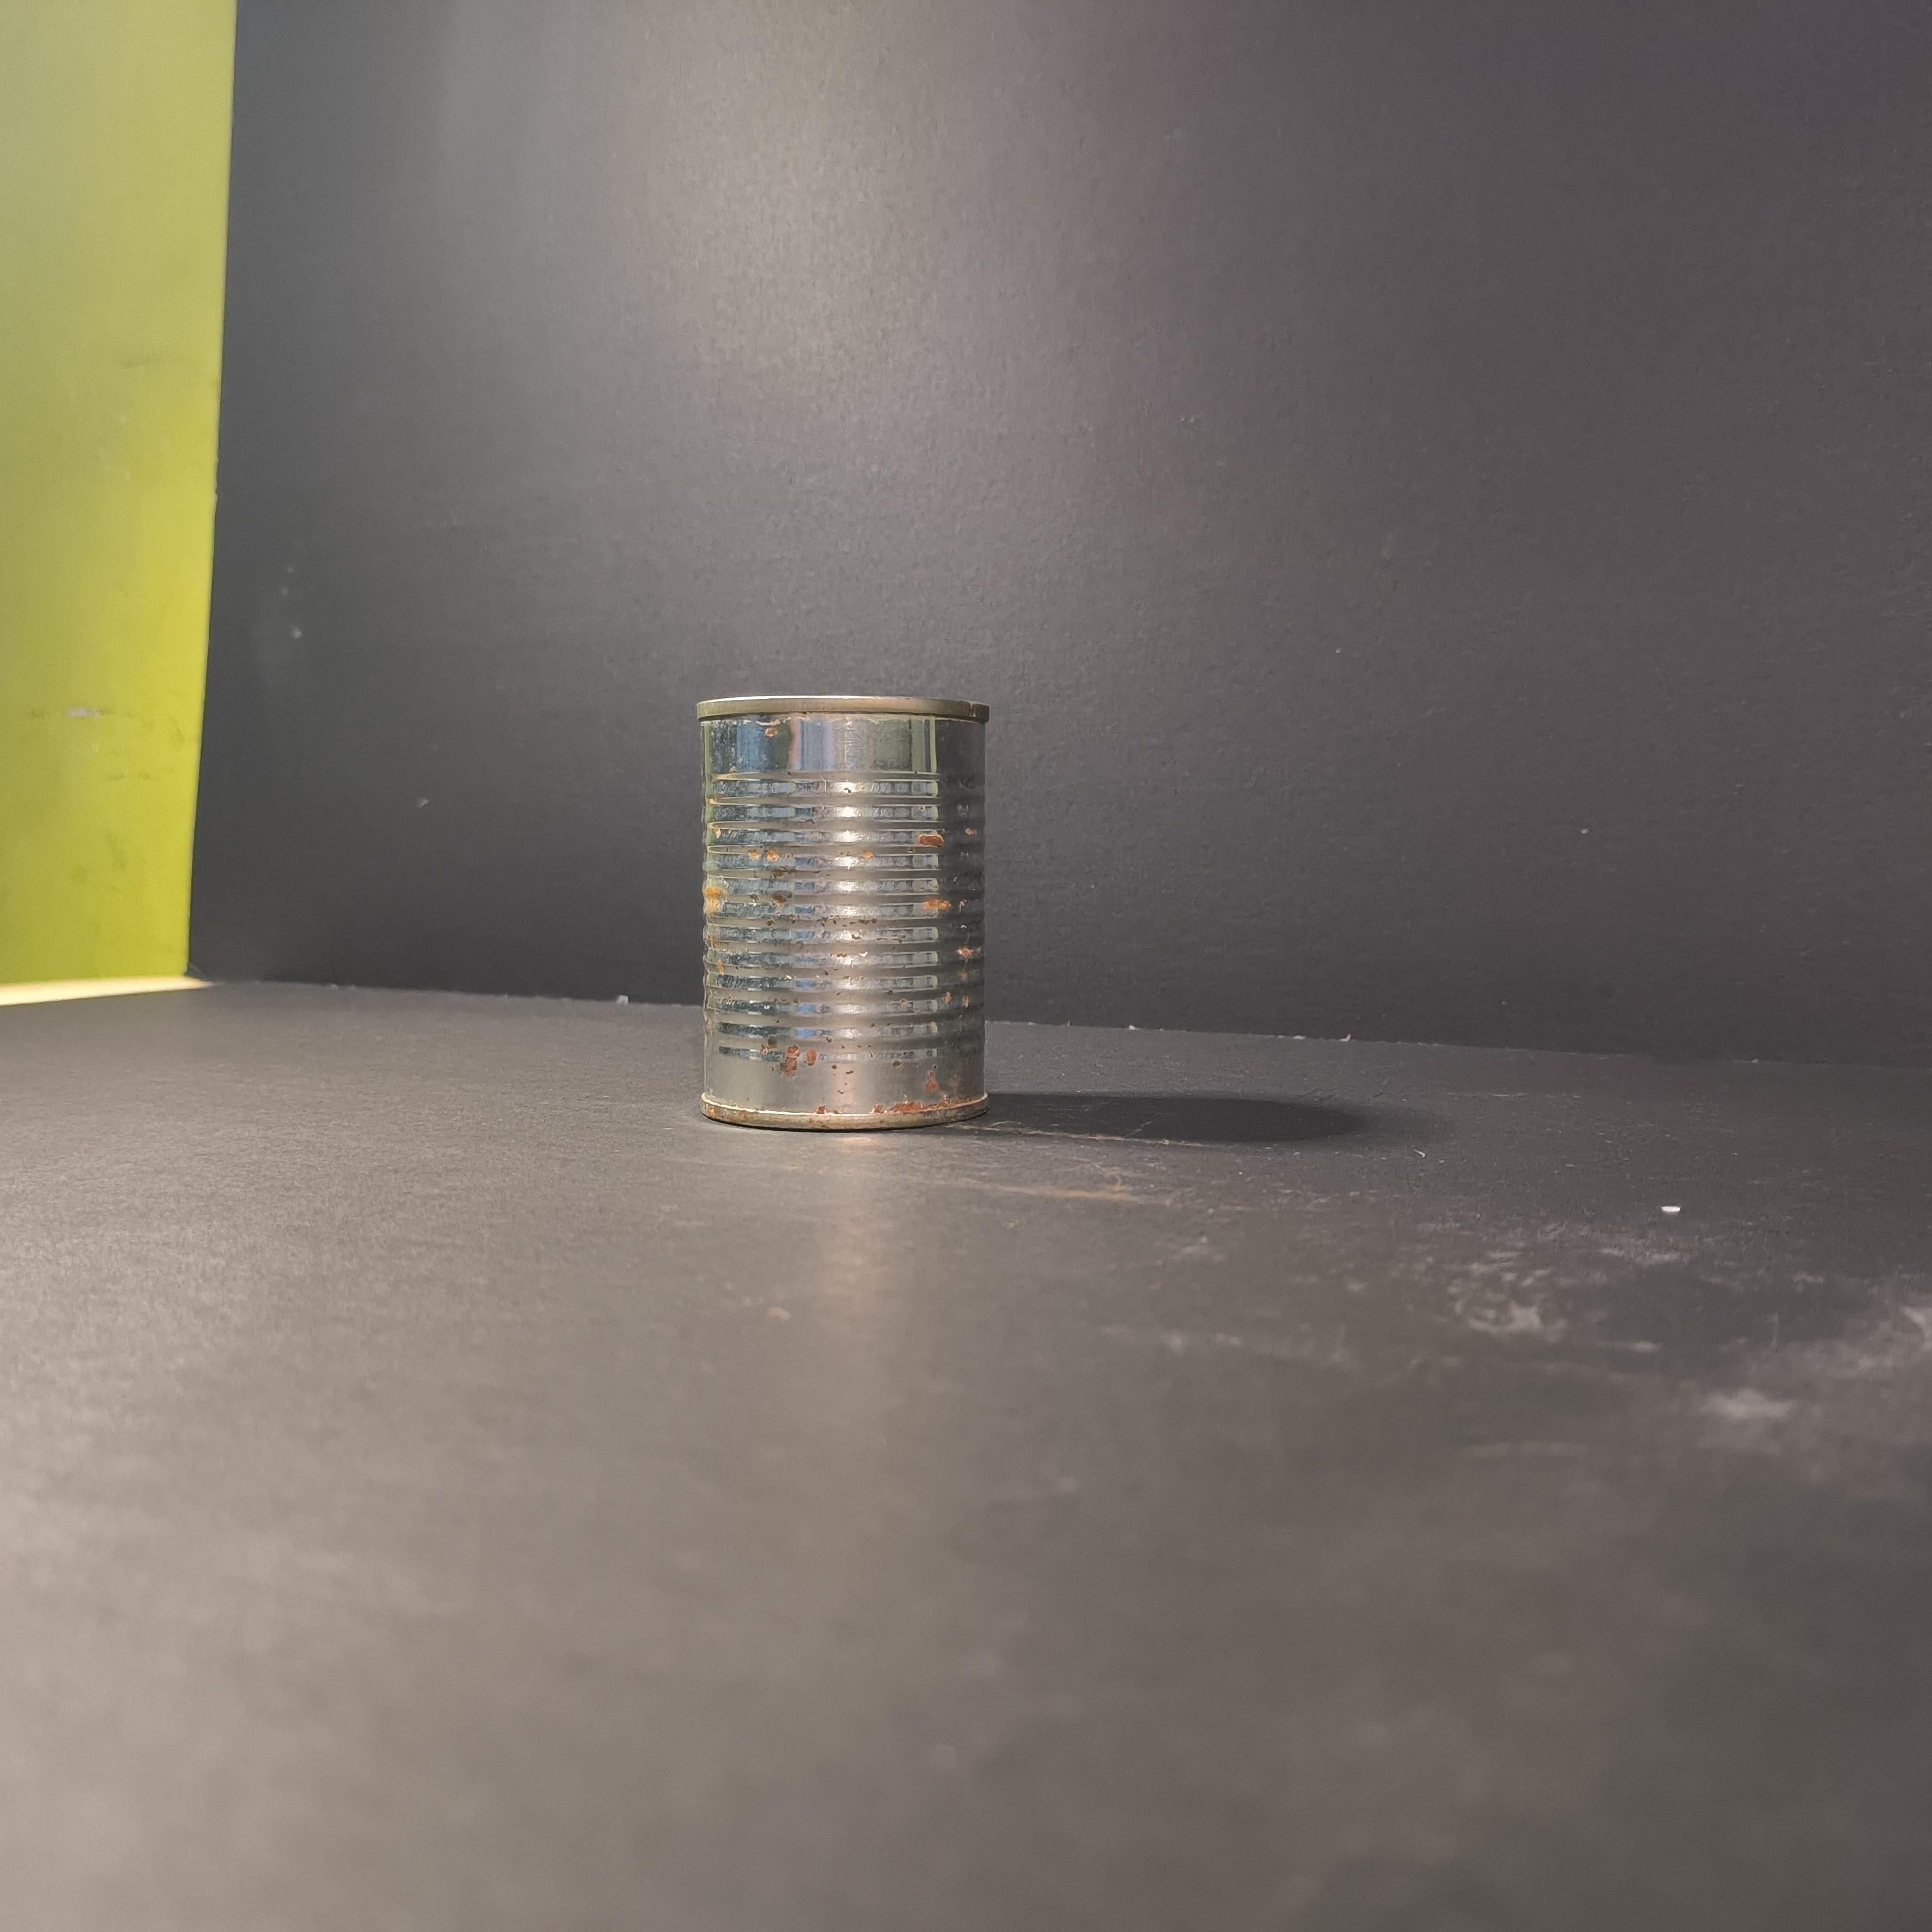Rusted: (682, 662, 1016, 1146)
